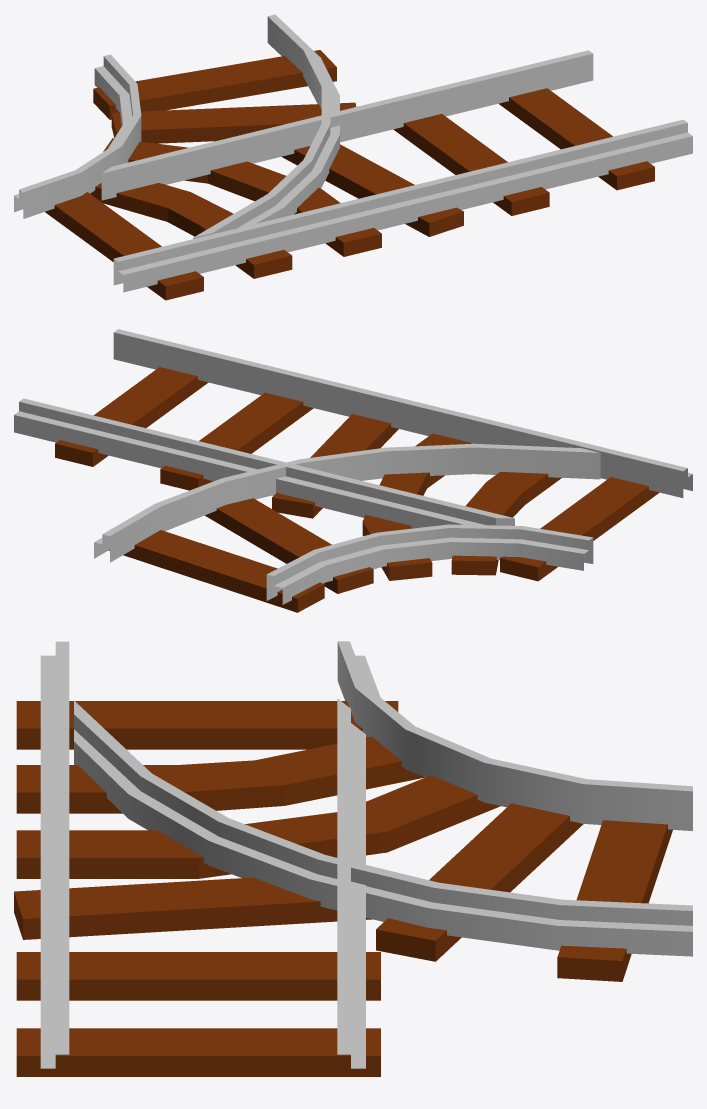
File: Kurve_m_Weiche.fbx
The picture shows the model from 3 angles, top to bottom: view 1: azimuth 30°, elevation 25°; view 2: azimuth 150°, elevation 25°; view 3: azimuth 270°, elevation 25°; orthographic projection. The views are drawn at different scales.
Parts seen in each view (by area): view 1: Kurve_m_Weiche; view 2: Kurve_m_Weiche; view 3: Kurve_m_Weiche.
Part boxes in pixels (box(x1,y1,x2,y2)): Kurve_m_Weiche: box(14, 14, 692, 300); Kurve_m_Weiche: box(14, 329, 692, 612); Kurve_m_Weiche: box(14, 641, 692, 1076).
Bounding box in the file's own units: 1 × 0.0633 × 0.6946.
